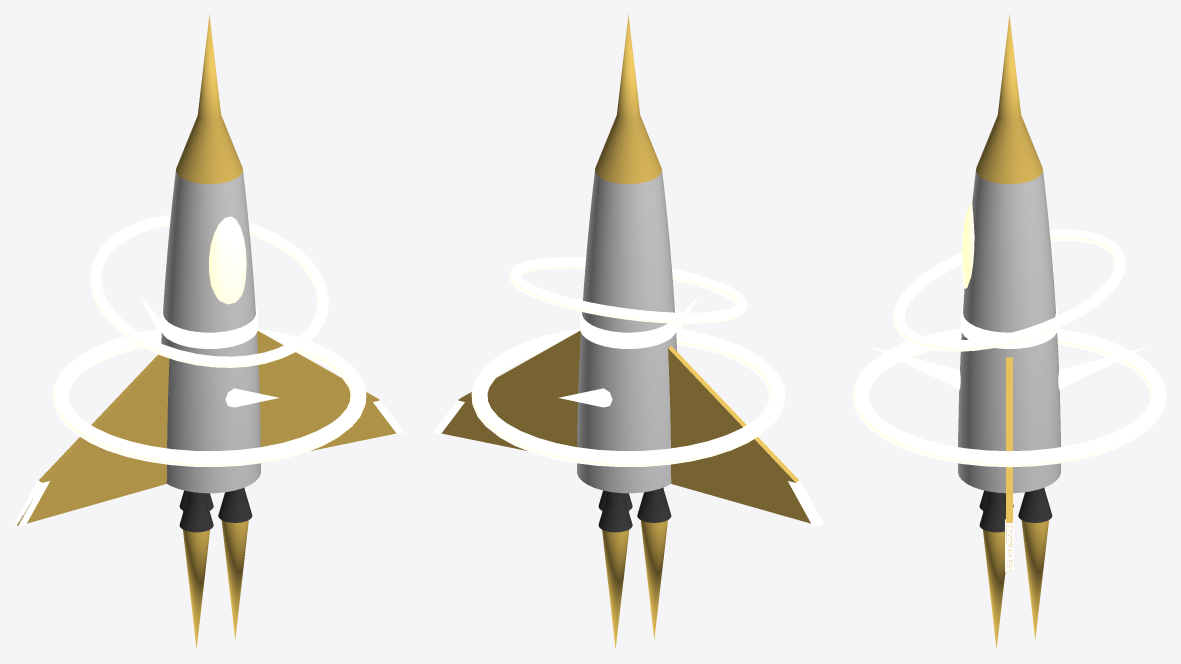
The model's file is Rocket_40_UltimateLegend.fbx.
3 renders of one model, left to right at view 1: azimuth 30°, elevation 25°; view 2: azimuth 150°, elevation 25°; view 3: azimuth 270°, elevation 25°, orthographic.
Visible parts, largest first — view 1: R40_Body, R40_Fin_2, R40_Halo_1, R40_Fin_1, R40_Halo_2, R40_Nose, R40_Cockpit, R40_Band_1, R40_Flame_3, R40_Flame_2, R40_Nozzle_2, R40_Nozzle_3 (+2 smaller); view 2: R40_Body, R40_Fin_2, R40_Halo_1, R40_Fin_1, R40_Halo_2, R40_Nose, R40_Flame_1, R40_Flame_2, R40_Band_1, R40_Nozzle_1, R40_Nozzle_2, R40_Spike_1 (+1 smaller); view 3: R40_Body, R40_Halo_1, R40_Halo_2, R40_Nose, R40_Flame_1, R40_Flame_3, R40_Fin_1, R40_Spike_1, R40_Spike_2, R40_Band_1, R40_Nozzle_1, R40_Nozzle_3 (+1 smaller).
Boxes of the visible parts, x1,y1,x2,y2 form: R40_Body: (161,171,260,493); R40_Fin_2: (17,354,169,525); R40_Halo_1: (52,328,366,466); R40_Fin_1: (257,331,396,450); R40_Halo_2: (90,214,328,367); R40_Nose: (176,14,242,183); R40_Cockpit: (209,216,246,304); R40_Band_1: (161,306,257,348); R40_Flame_3: (221,520,248,638); R40_Flame_2: (183,529,209,648); R40_Nozzle_2: (179,491,213,532); R40_Nozzle_3: (218,487,252,522); R40_Body: (577,171,677,493); R40_Fin_2: (668,346,810,523); R40_Halo_1: (471,328,785,466); R40_Fin_1: (441,331,580,450); R40_Halo_2: (509,257,747,323); R40_Nose: (595,14,661,183); R40_Flame_1: (602,529,629,648); R40_Flame_2: (640,520,667,638); R40_Band_1: (580,307,676,348); R40_Nozzle_1: (598,491,632,532); R40_Nozzle_2: (637,487,671,522); R40_Spike_1: (558,388,612,407); R40_Body: (958,171,1060,493); R40_Halo_1: (852,328,1166,467); R40_Halo_2: (893,229,1125,351); R40_Nose: (976,14,1042,183); R40_Flame_1: (1021,520,1048,638); R40_Flame_3: (983,529,1005,648); R40_Fin_1: (1006,357,1012,571); R40_Spike_1: (1058,346,1149,389); R40_Spike_2: (869,346,960,389); R40_Band_1: (961,307,1057,348); R40_Nozzle_1: (1018,487,1052,522); R40_Nozzle_3: (979,491,1005,532).
Bounding box in the file's own units: 7.77 × 12.05 × 5.48.
